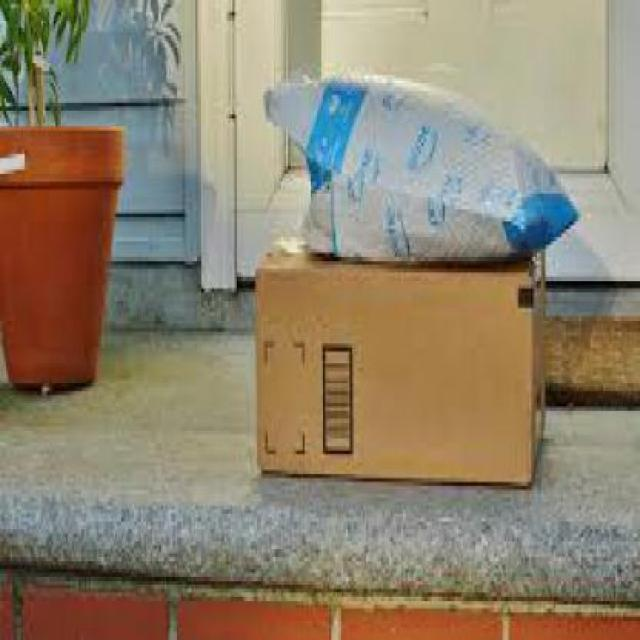box: (255, 239, 542, 485)
